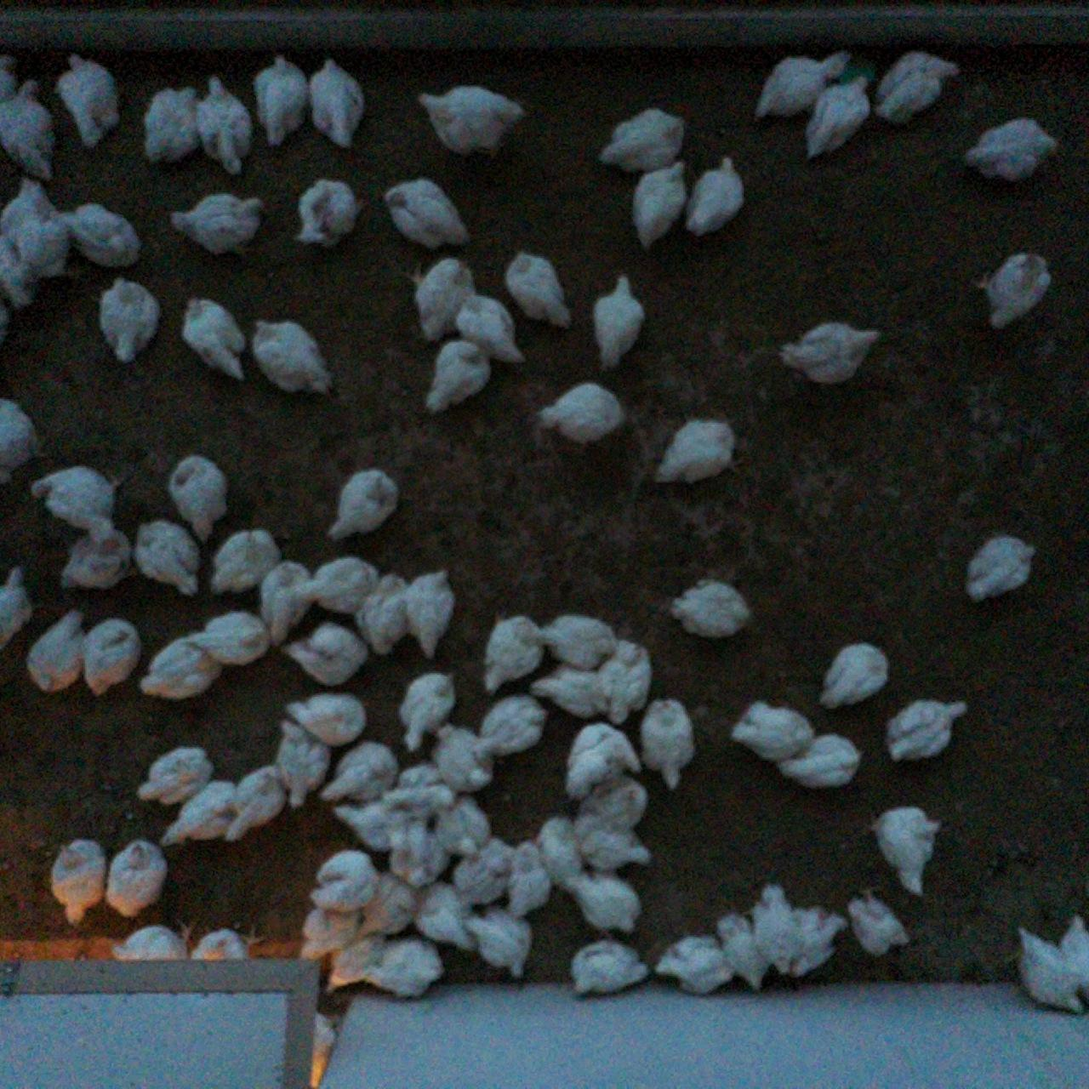chicken: (414, 81, 528, 164), (0, 174, 69, 311), (746, 44, 856, 129), (959, 107, 1067, 188), (869, 42, 967, 131), (27, 459, 130, 543), (775, 317, 886, 392), (863, 800, 946, 900), (967, 245, 1058, 336), (48, 43, 123, 153), (164, 185, 269, 261), (651, 412, 747, 495), (379, 173, 474, 255), (557, 720, 645, 808), (1009, 921, 1086, 1020), (0, 76, 67, 188), (532, 373, 629, 450), (250, 316, 339, 398), (624, 154, 695, 256), (22, 604, 97, 698), (881, 693, 969, 773), (597, 102, 692, 176), (277, 615, 372, 689), (180, 291, 252, 388), (131, 511, 206, 604), (959, 526, 1040, 612), (191, 68, 254, 176), (501, 245, 577, 334), (321, 464, 404, 545), (726, 691, 818, 764), (418, 338, 496, 424), (634, 694, 701, 793), (93, 275, 165, 367), (43, 834, 110, 931), (559, 872, 649, 944), (811, 636, 895, 713), (62, 198, 146, 275), (585, 270, 646, 375), (205, 526, 288, 603), (165, 448, 232, 543), (404, 256, 475, 345), (248, 48, 309, 151), (557, 938, 653, 1003), (156, 778, 241, 851), (103, 834, 175, 920), (133, 633, 225, 700), (667, 573, 755, 643), (477, 612, 547, 700), (135, 80, 207, 165), (306, 53, 367, 153), (289, 173, 368, 250), (53, 525, 138, 596), (777, 730, 867, 797), (177, 907, 271, 971), (713, 907, 780, 995), (255, 555, 317, 650), (681, 152, 747, 241), (361, 936, 448, 1003), (399, 667, 463, 756), (654, 928, 737, 996), (455, 292, 529, 368), (466, 903, 536, 983), (274, 714, 332, 810), (476, 686, 553, 758), (318, 737, 396, 808), (137, 738, 217, 807), (295, 554, 382, 617), (79, 615, 145, 698), (407, 565, 464, 661), (186, 606, 274, 668), (412, 879, 482, 956), (744, 879, 797, 980), (528, 660, 612, 723), (223, 761, 285, 846), (353, 572, 412, 661), (570, 811, 654, 873), (842, 885, 915, 956), (430, 715, 498, 791), (572, 774, 651, 838), (784, 902, 847, 982), (603, 632, 656, 727), (539, 612, 620, 674), (283, 690, 370, 746), (376, 758, 453, 821), (355, 865, 419, 939), (454, 836, 517, 911), (432, 792, 499, 862), (308, 847, 381, 909), (294, 901, 362, 966), (322, 929, 383, 1000), (386, 817, 450, 884), (534, 811, 586, 893), (501, 836, 554, 916), (329, 799, 402, 855), (107, 911, 188, 961), (0, 393, 43, 487), (0, 564, 36, 655), (1054, 912, 1089, 986), (0, 52, 21, 104)
